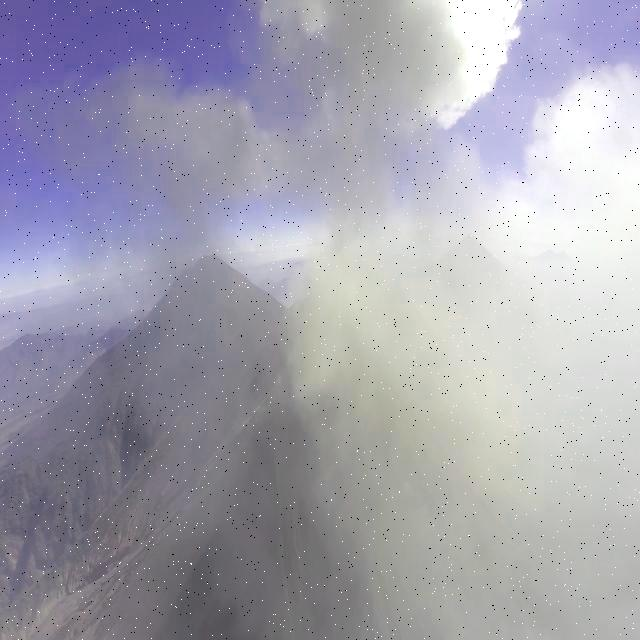Plume: (285, 64, 640, 640), (18, 70, 286, 285), (234, 0, 522, 151)
